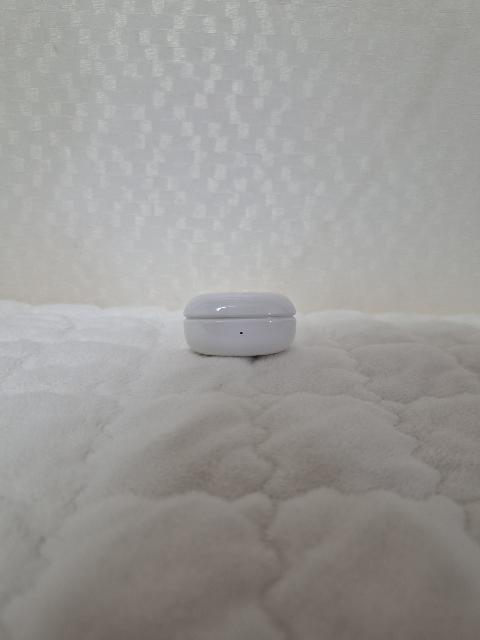earphone_case: (183, 292, 297, 357)
